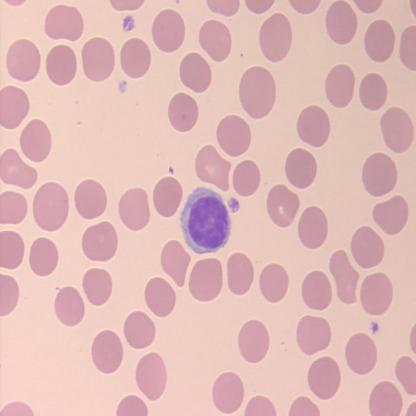Lymphocyte: (180, 185, 233, 255)
